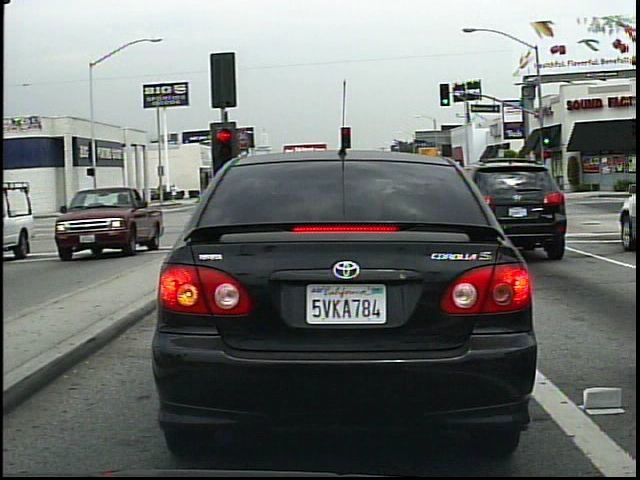person: (169, 181, 181, 204)
